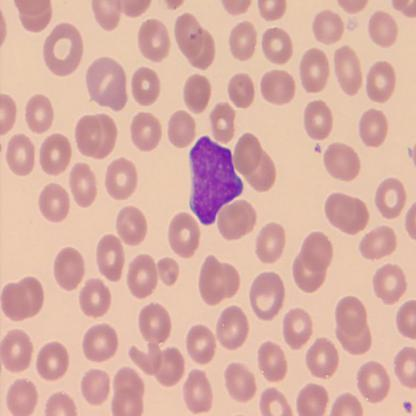Blast: (187, 133, 244, 228)
